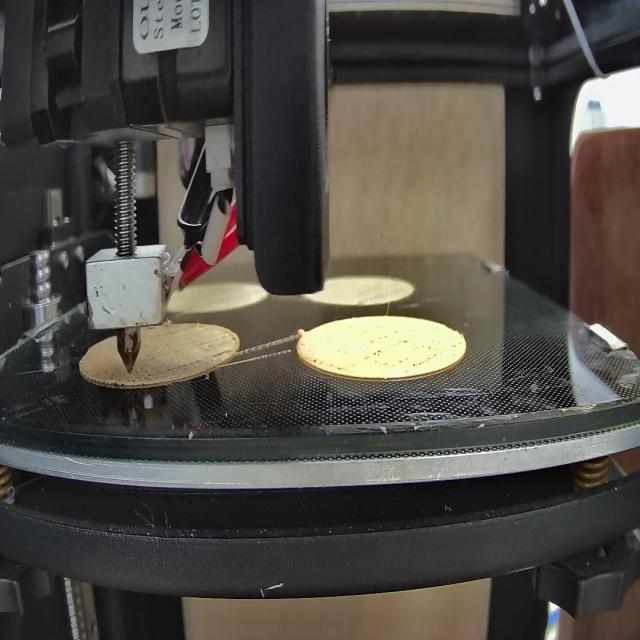under_extrusion: (361, 331, 461, 370), (163, 342, 239, 371), (95, 362, 154, 394), (307, 341, 347, 377)
